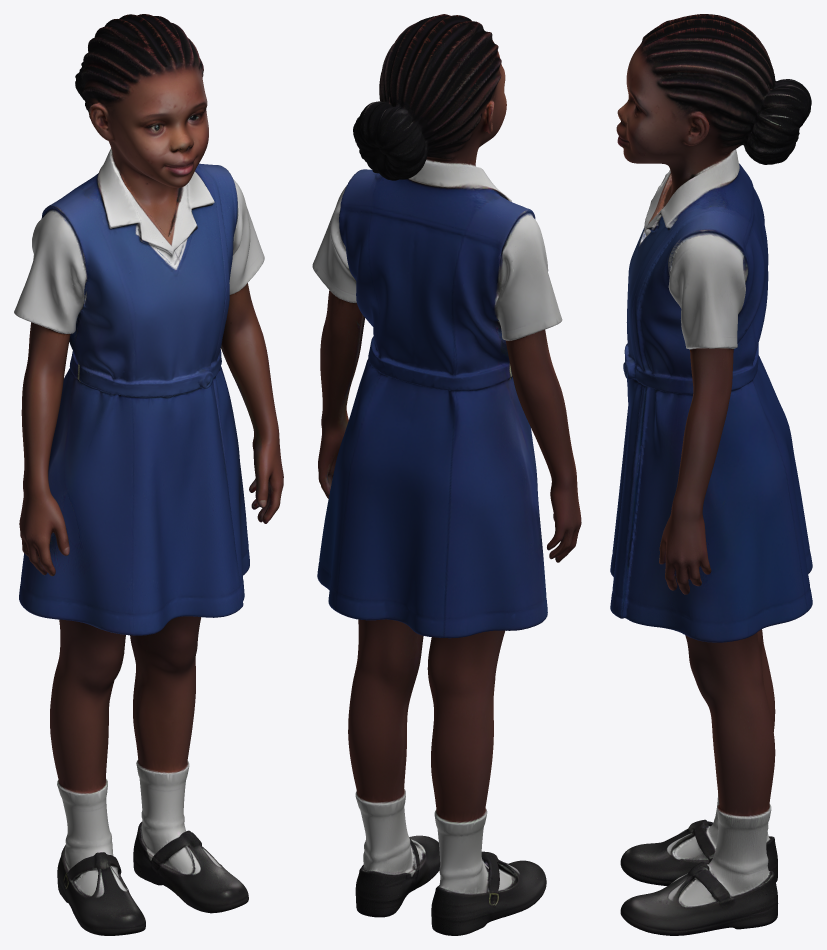
File: Senzi.glb
The picture shows the model from 3 angles, left to right: view 1: azimuth 30°, elevation 25°; view 2: azimuth 150°, elevation 25°; view 3: azimuth 270°, elevation 25°; orthographic projection.
Size of the model in its own units: 0.5801 by 1.9 by 0.3944.
1 material, 1 textured.
